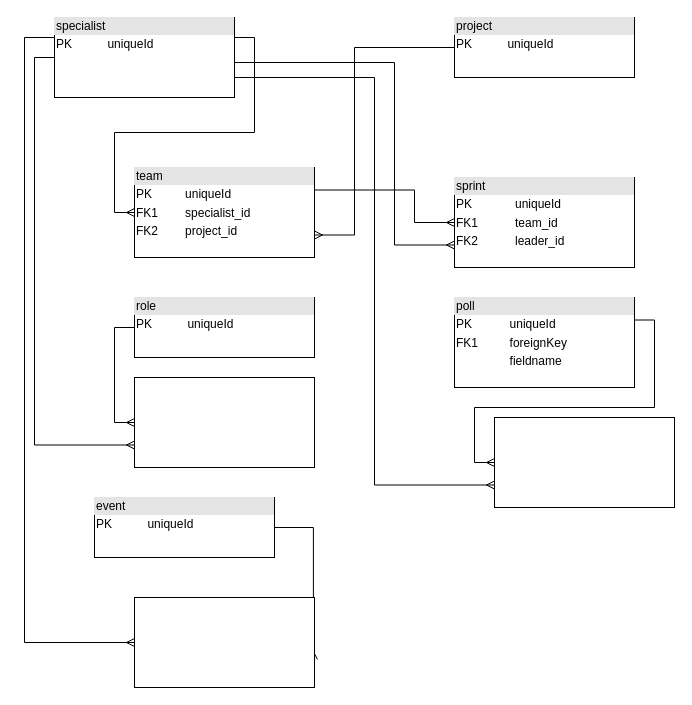
The diagram is 692 pixels wide and 705 high, and some of its shapes have lost their labels. The centre of each missing label's shape, as x and y in pixels:
"event_specialist PK uniqueId FK1 specialist_id FK2 event_id" belongs at (224,642).
"poll_answer PK uniqueId FK1 poll_id FK2 specialist_id" belongs at (584,462).
"role_assign PK uniqueId FK1 role_id FK2 specialist_id" belongs at (224,422).
